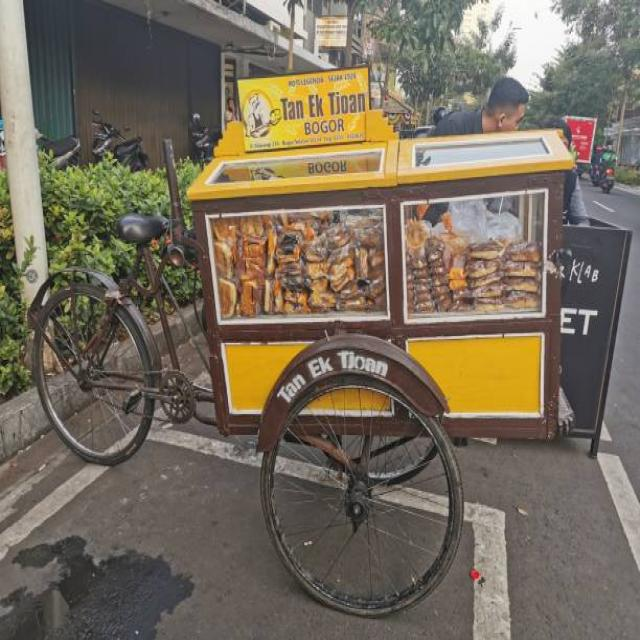Emperan: (11, 53, 607, 633)
